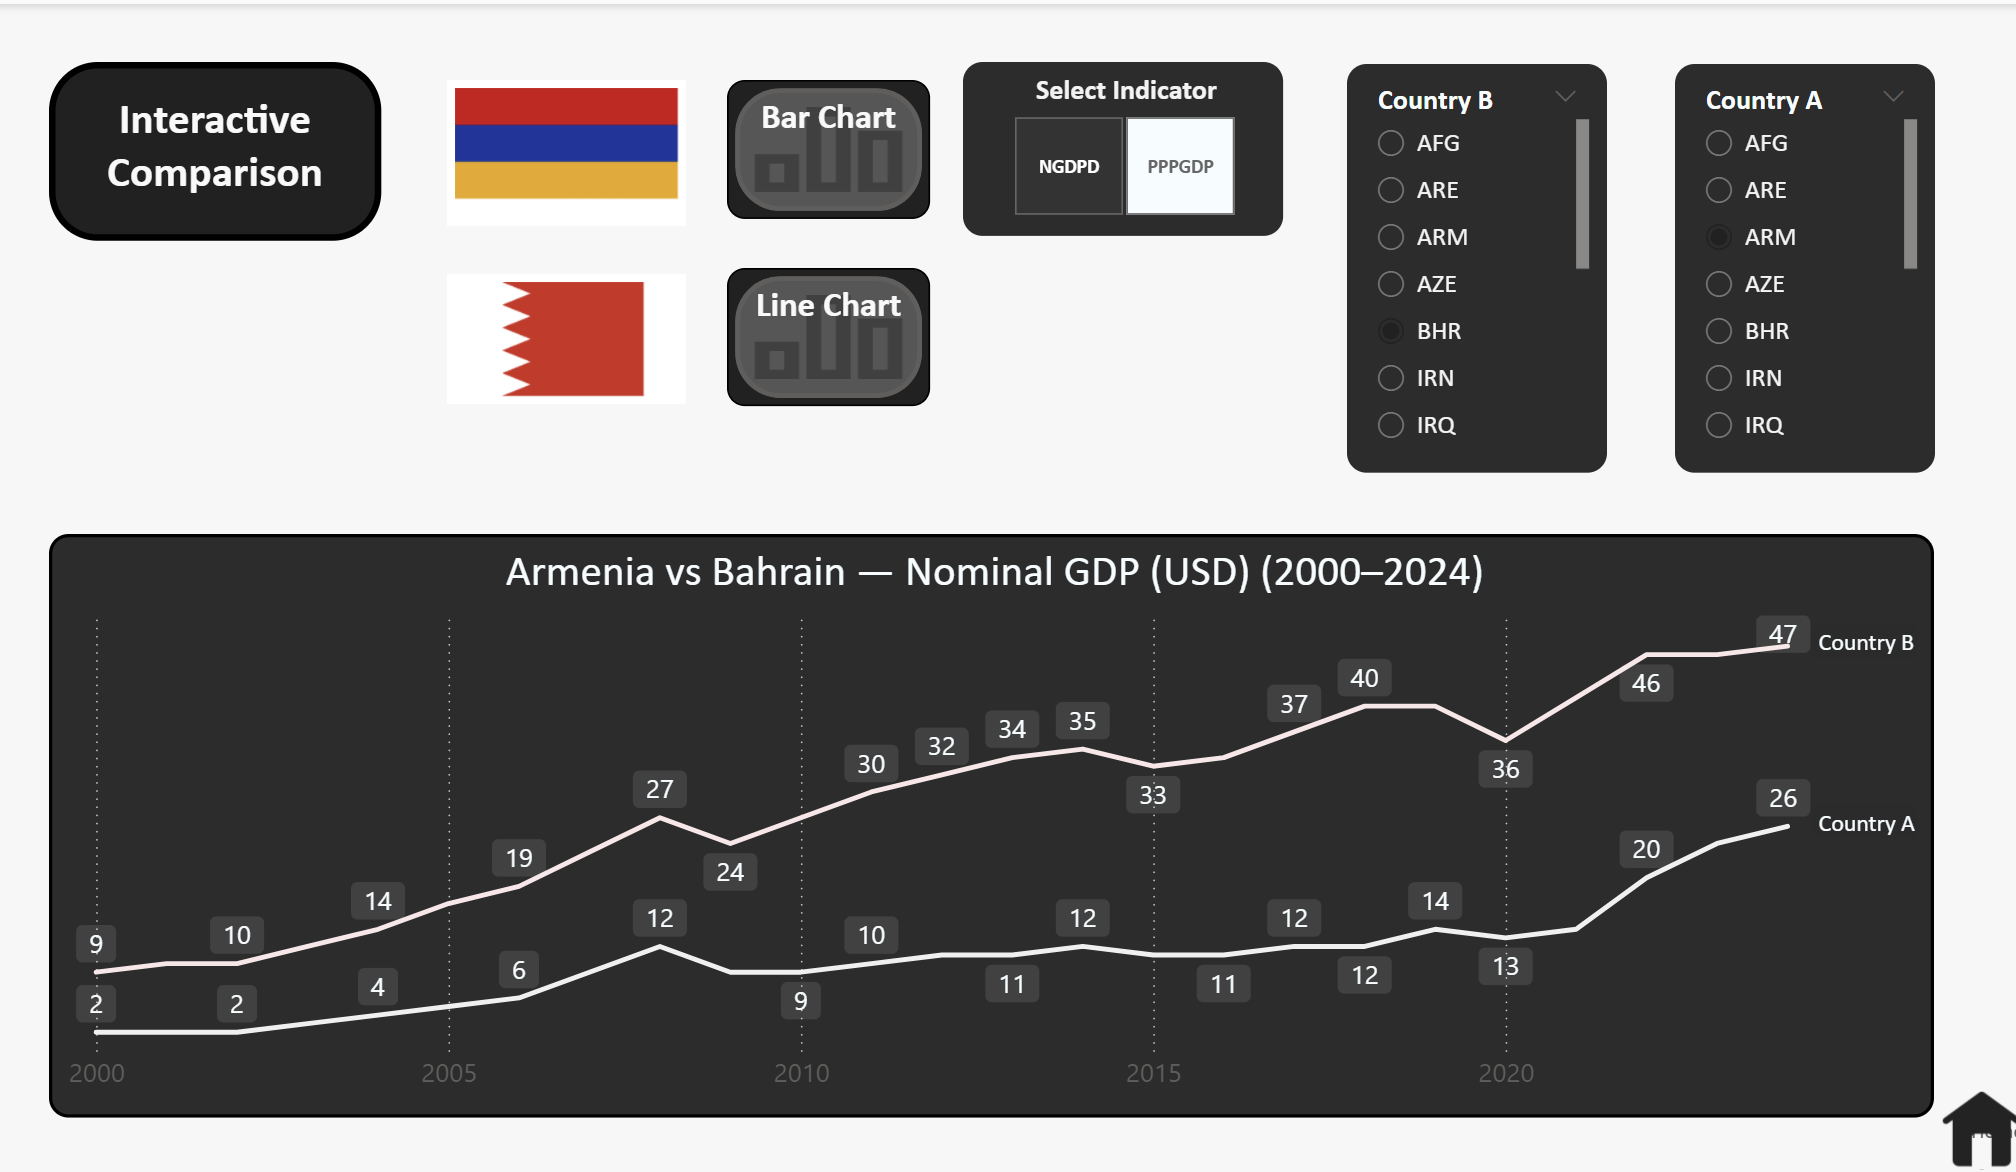

The page's visual inventory and layout, read from the dashboard file:
{"tool":"powerbi","page":{"name":"Comparison","canvas":[1280,720],"ordinal":10},"visuals":[{"type":"slicer","title":"Country A","fields":{"Values":["Country A.ISO A"]},"box":[1060.4,36.4,160,251.6],"z":0},{"type":"slicer","title":"Country B","fields":{"Values":["Country B.ISO B"]},"box":[859.6,36.4,160,251.6],"z":1000},{"type":"lineChart","fields":{"Category":["DimYear.Year"],"Y":["WEO.Selected Metric Value (A)","WEO.Selected Metric Value (B)"]},"box":[60,325.7,1160,358.6],"z":2000},{"type":"actionButton","title":"Line","box":[477.1,162.9,125,85],"z":4000},{"type":"actionButton","title":"Bar Chart","box":[477.1,47.1,125,85.7],"z":5000},{"type":"slicer","title":"Select Indicator","fields":{"Values":["DimIndicator.Indicator"]},"box":[622.9,35.7,197.1,107.1],"z":6000},{"type":"simpleImageEBC4593F96F1425FB3D84C5BF02B5075","fields":{"imageURL":["Country A.Flag URL"]},"box":[305.7,47.1,147.1,90],"z":7000},{"type":"simpleImageEBC4593F96F1425FB3D84C5BF02B5075","fields":{"imageURL":["Country B.Flag URL"]},"box":[305.7,165.7,147.1,80],"z":8000},{"type":"textbox","box":[60,35.7,204.3,110],"z":9000},{"type":"actionButton","box":[1220,664,60,56],"z":10000}]}

Visuals, with their boxes on the page's 1280x720 design canvas (x1, y1, x2, y2). These are canvas units, not pixel positions in the 2016x1172 screenshot, which may show the page scaled, cropped or inside an application window:
"Country A" slicer: <region>1060, 36, 1220, 288</region>
"Country B" slicer: <region>860, 36, 1020, 288</region>
lineChart - DimYear.Year x WEO.Selected Metric Value (A): <region>60, 326, 1220, 684</region>
"Line" actionButton: <region>477, 163, 602, 248</region>
"Bar Chart" actionButton: <region>477, 47, 602, 133</region>
"Select Indicator" slicer: <region>623, 36, 820, 143</region>
simpleImageEBC4593F96F1425FB3D84C5BF02B5075 - Country A.Flag URL: <region>306, 47, 453, 137</region>
simpleImageEBC4593F96F1425FB3D84C5BF02B5075 - Country B.Flag URL: <region>306, 166, 453, 246</region>
textbox: <region>60, 36, 264, 146</region>
actionButton: <region>1220, 664, 1280, 720</region>
